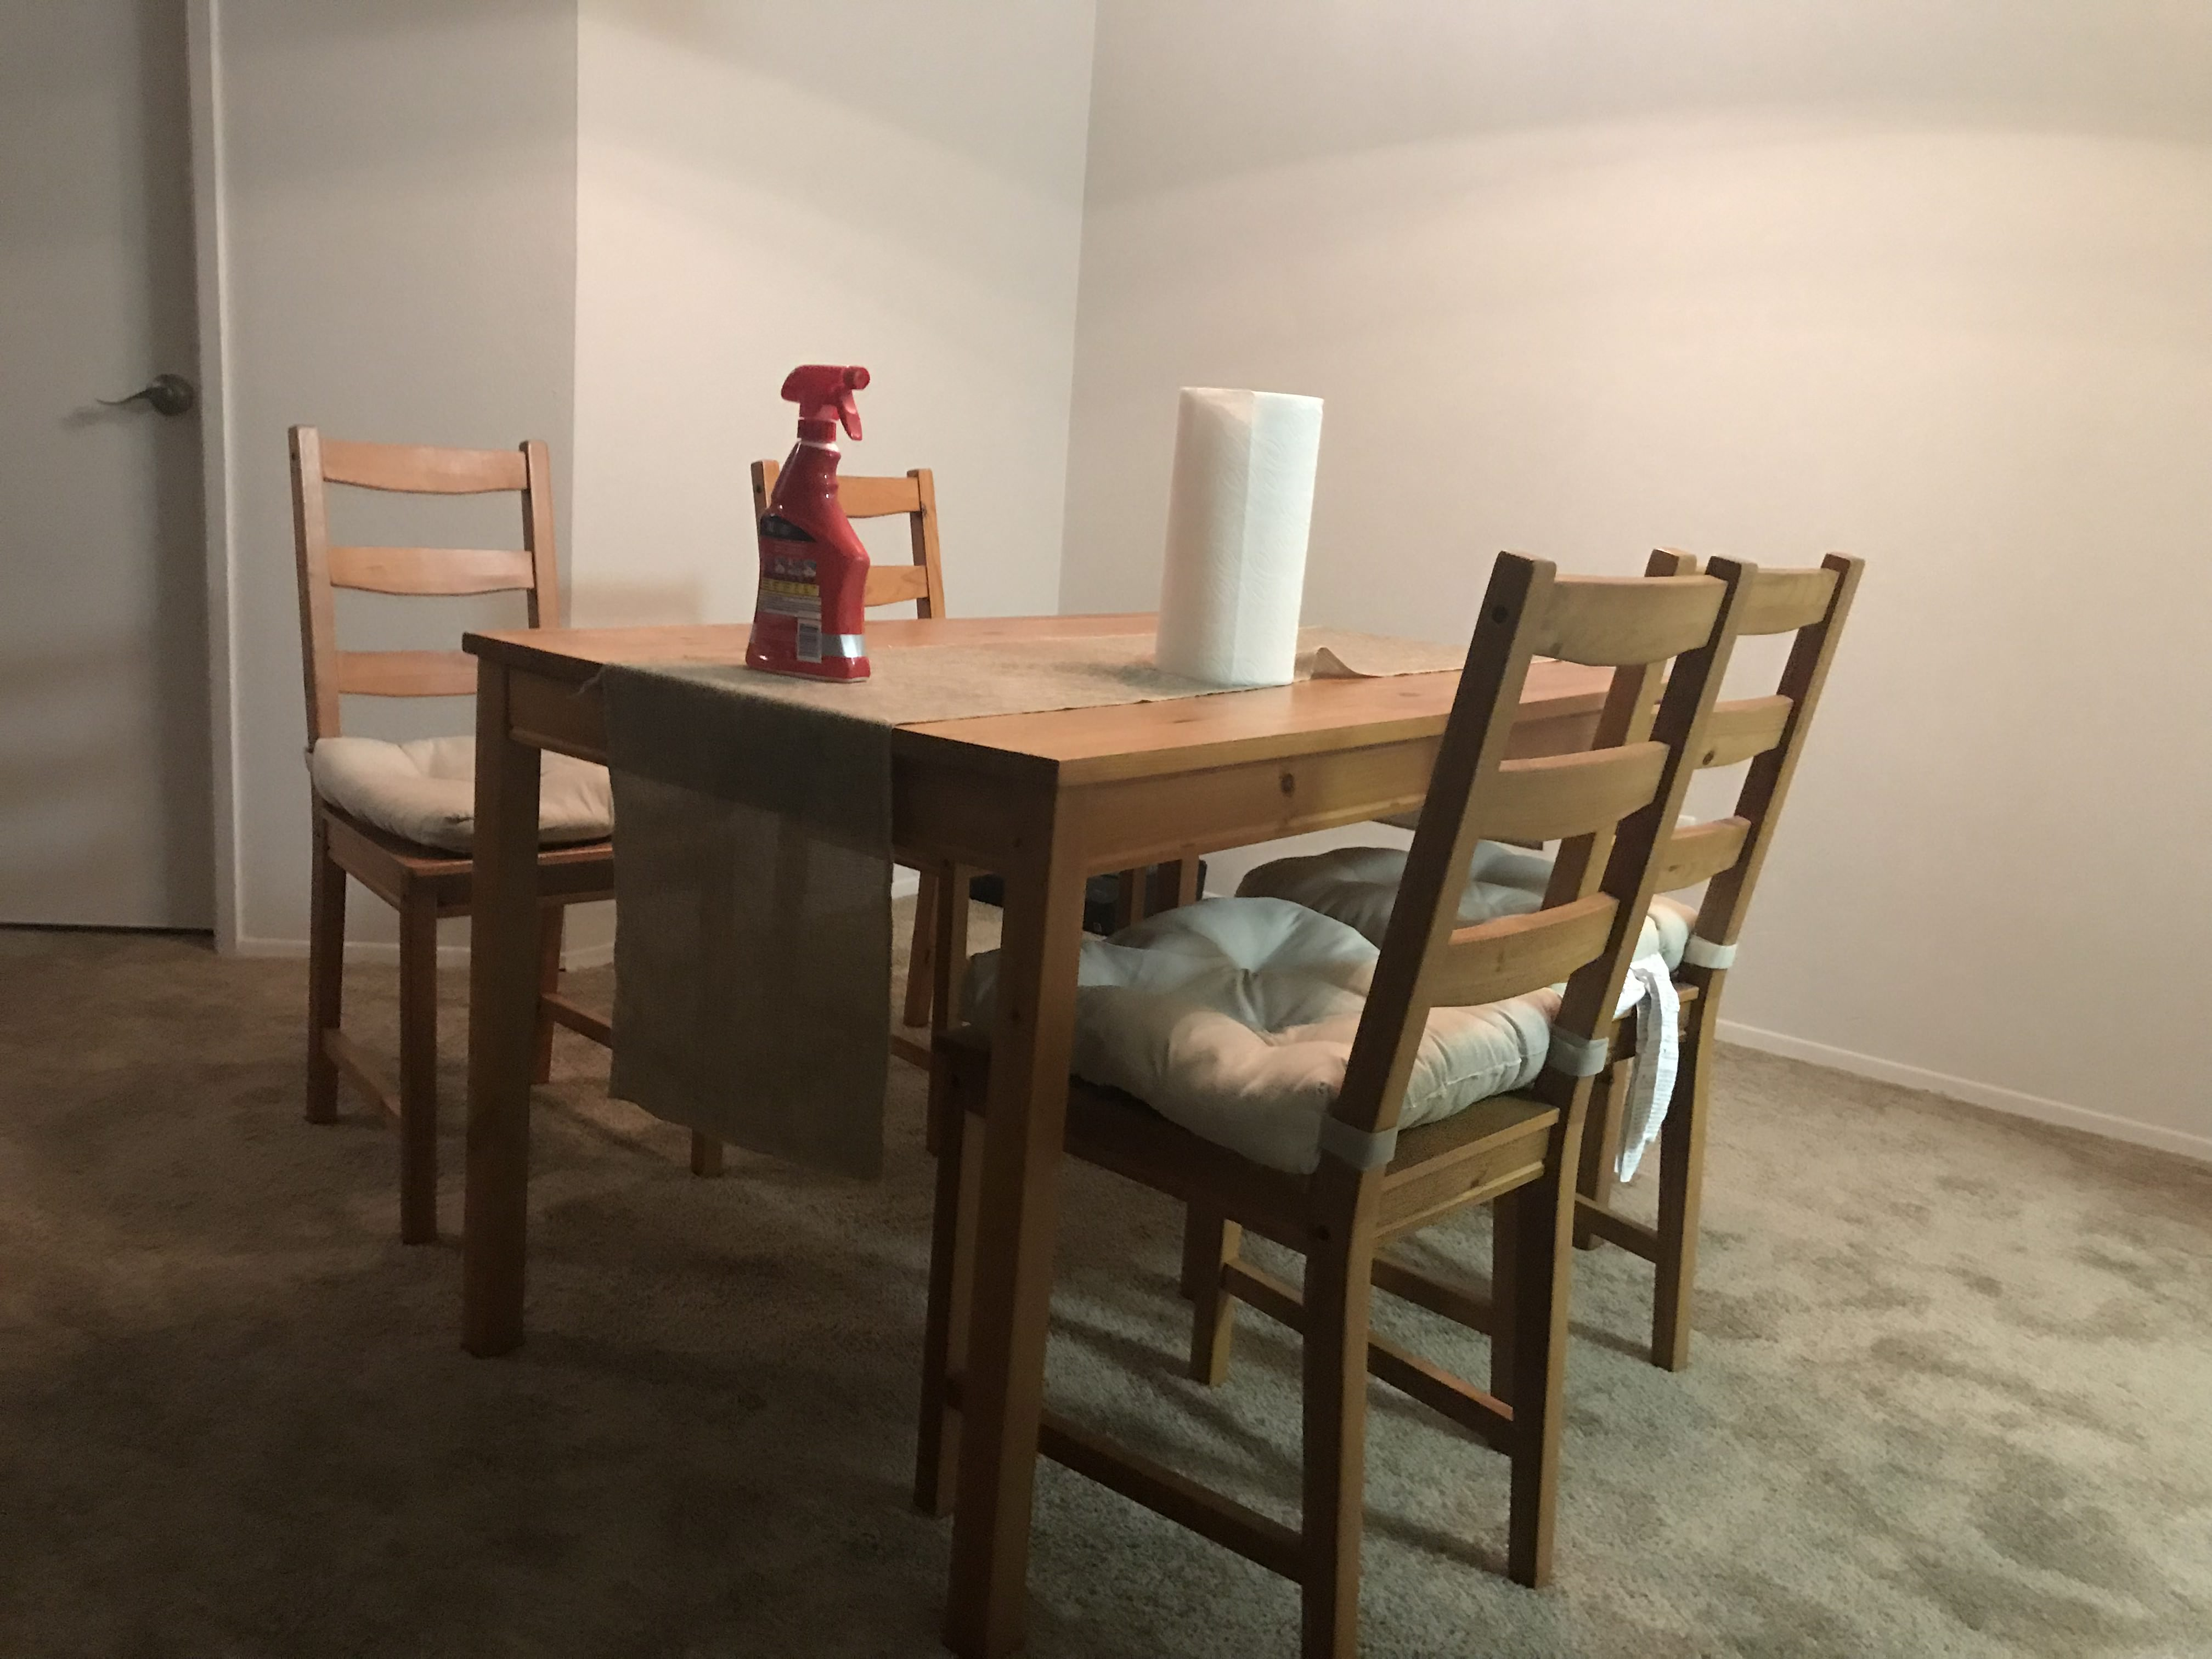Obstacle: (280, 359, 1869, 1647)
